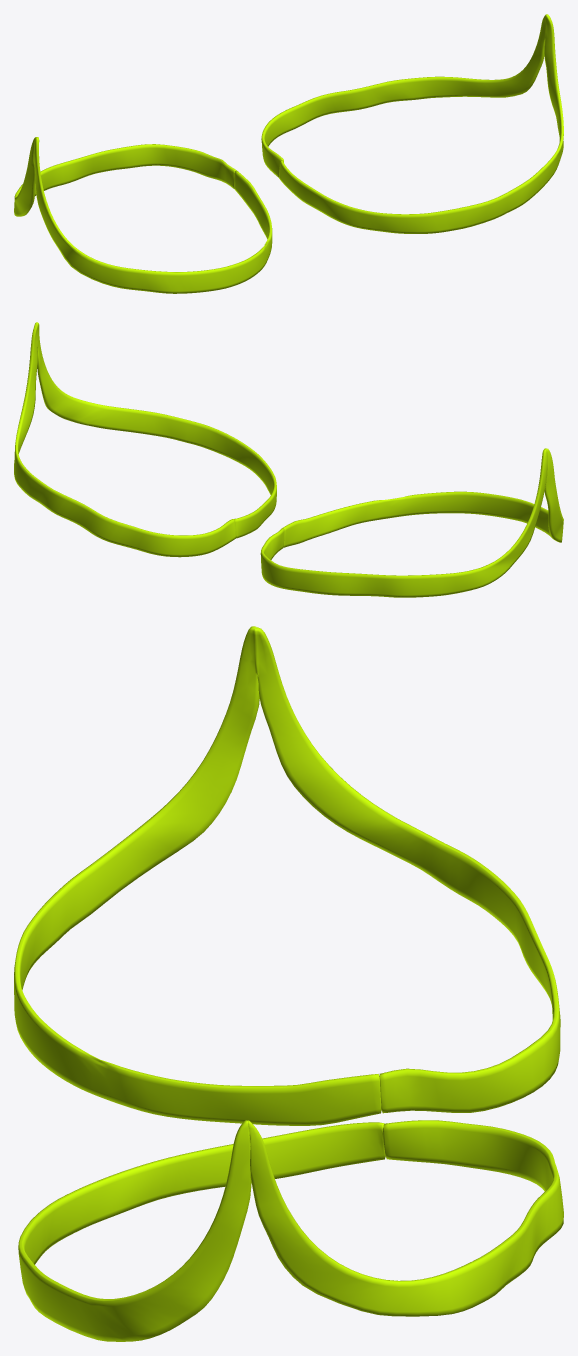
The model's file is BX_0_CURVED_trims_bottom.glb.
The picture shows the model from 3 angles, top to bottom: view 1: azimuth 30°, elevation 25°; view 2: azimuth 150°, elevation 25°; view 3: azimuth 270°, elevation 25°; orthographic projection. The views are drawn at different scales.
Parts seen in each view (by area): view 1: BX-0-CURVED-trims-bottom; view 2: BX-0-CURVED-trims-bottom; view 3: BX-0-CURVED-trims-bottom.
Part boxes in pixels (x1,y1,x2,y2): BX-0-CURVED-trims-bottom: (14,14,563,293); BX-0-CURVED-trims-bottom: (14,322,563,597); BX-0-CURVED-trims-bottom: (14,626,563,1341).
Size of the model in its own units: 5.04 by 1.35 by 2.34.
